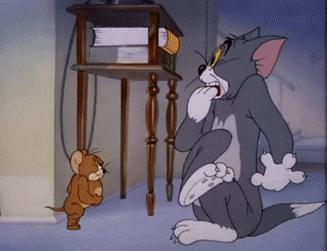jerry: (43, 149, 111, 230)
